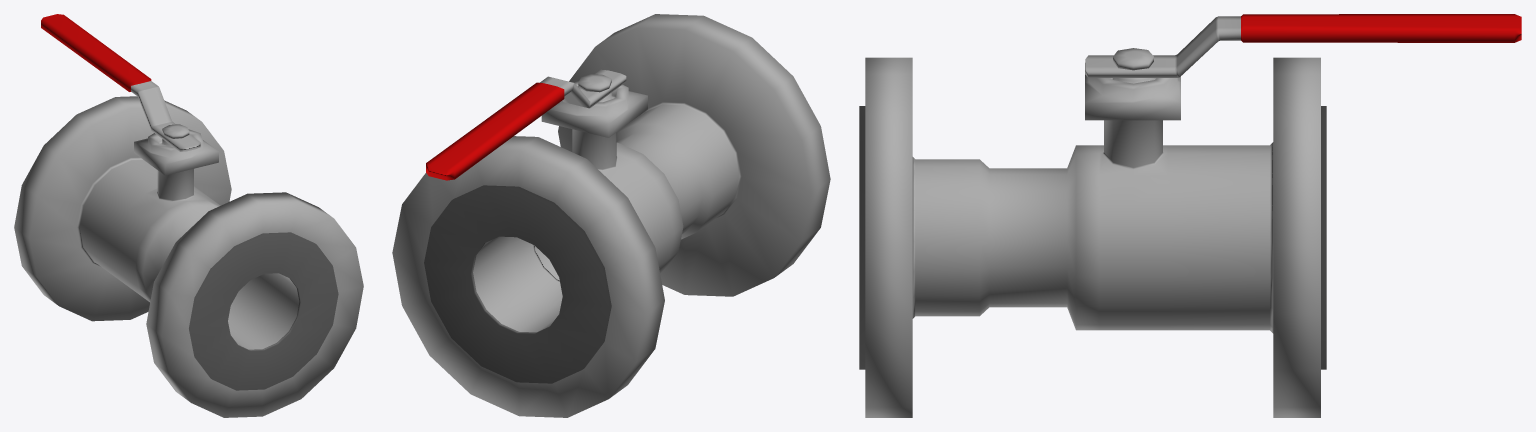
File: Valve.fbx
3 renders of one model, left to right at view 1: azimuth 30°, elevation 25°; view 2: azimuth 150°, elevation 25°; view 3: azimuth 270°, elevation 25°, orthographic. The views are drawn at different scales.
Visible parts, largest first — view 1: vanne, manette; view 2: vanne, manette; view 3: vanne, manette.
Boxes of the visible parts, bbox=[...] form: vanne: bbox=[14, 96, 363, 417]; manette: bbox=[41, 14, 200, 151]; vanne: bbox=[392, 14, 830, 417]; manette: bbox=[426, 69, 626, 281]; vanne: bbox=[859, 48, 1326, 417]; manette: bbox=[1085, 14, 1521, 77].
Bounding box in the file's own units: 2 × 2.33 × 3.67.
